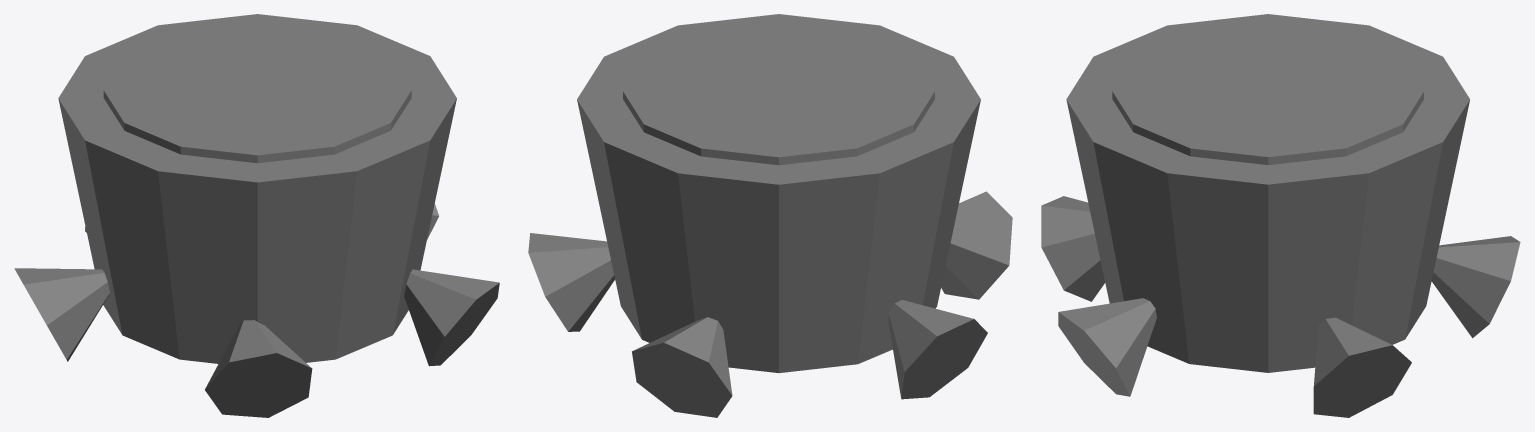
Rendered from stump.glb.
3 renders of one model, left to right at view 1: azimuth 30°, elevation 25°; view 2: azimuth 150°, elevation 25°; view 3: azimuth 270°, elevation 25°, orthographic.
Parts seen in each view (by area): view 1: body, top, root.003, root.004, root.002; view 2: body, top, root.001, root.002, root, root.003; view 3: body, top, root, root.004, root.001, root.003.
Part boxes in pixels (bbox=[...]): body: bbox=[58, 14, 456, 363]; top: bbox=[103, 25, 411, 163]; root.003: bbox=[205, 320, 312, 417]; root.004: bbox=[404, 269, 499, 366]; root.002: bbox=[14, 268, 109, 361]; body: bbox=[577, 14, 980, 372]; top: bbox=[623, 25, 934, 165]; root.001: bbox=[632, 317, 732, 417]; root.002: bbox=[888, 300, 987, 399]; root: bbox=[528, 233, 614, 331]; root.003: bbox=[941, 191, 1012, 299]; body: bbox=[1066, 14, 1469, 372]; top: bbox=[1112, 25, 1423, 165]; root: bbox=[1313, 317, 1411, 417]; root.004: bbox=[1058, 298, 1156, 396]; root.001: bbox=[1431, 236, 1520, 338]; root.003: bbox=[1041, 196, 1105, 301].
Size of the model in its own units: 1.12 by 0.6273 by 1.09.
2 materials, 2 textured.
